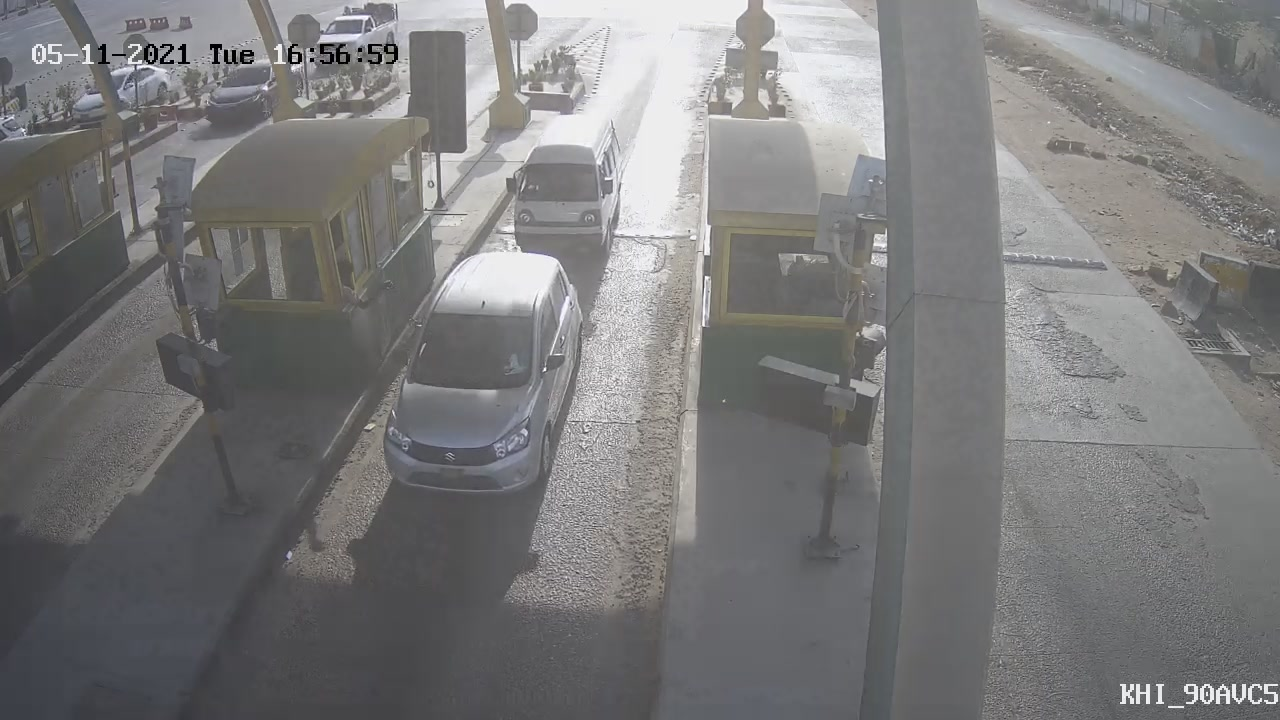F1: (355, 229, 605, 516), (495, 103, 638, 281)
